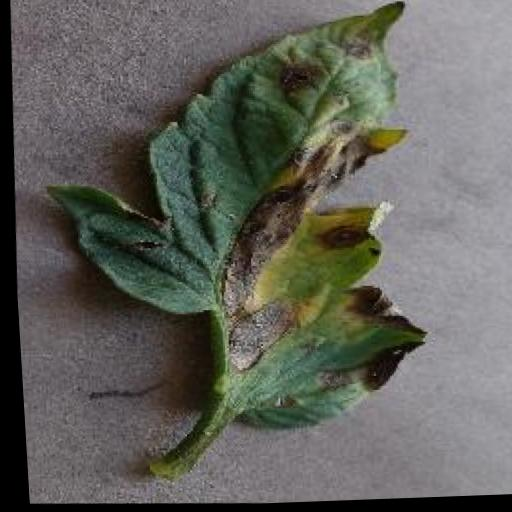Early Blight: (25, 0, 436, 439)
